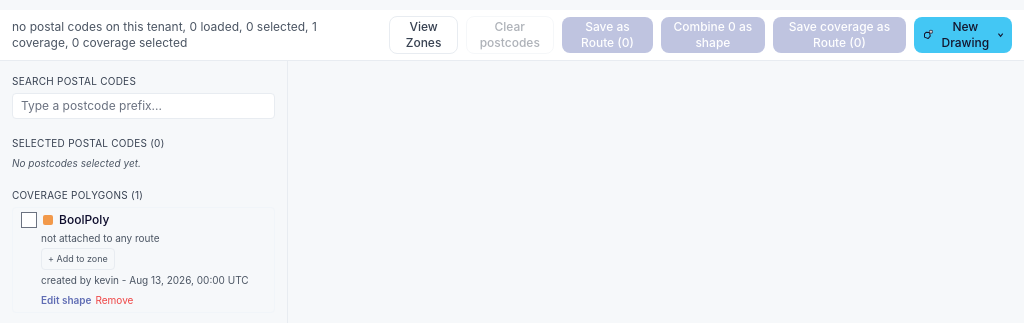
Test: PolygonBuilder - boolean ops (Add / Cut / Clip / Split) › Shape input picker switches to Rectangle + Cut uses rectangling mode
The width and height of the screenshot is (1024, 323).
(page scrolled)
Click the button "Edit shape" at (66, 300), box [41,292,92,308]
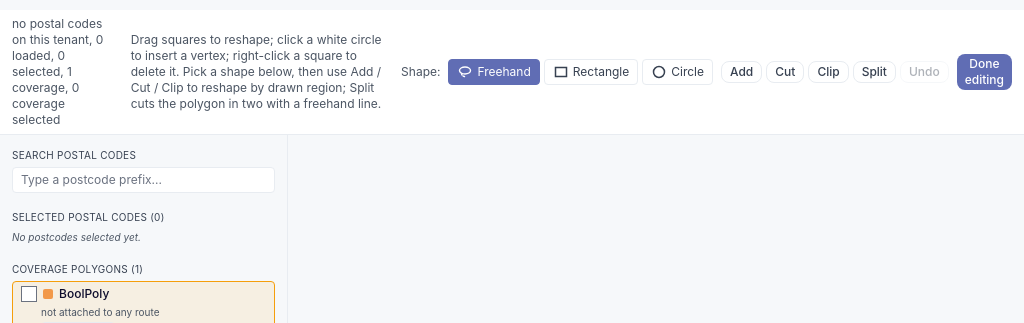
Expected: the text "Drag squares to reshape" is shown, [131,32,382,111]
Click the radio button labelled "Rectangle" at (591, 72), box [544,59,638,85]
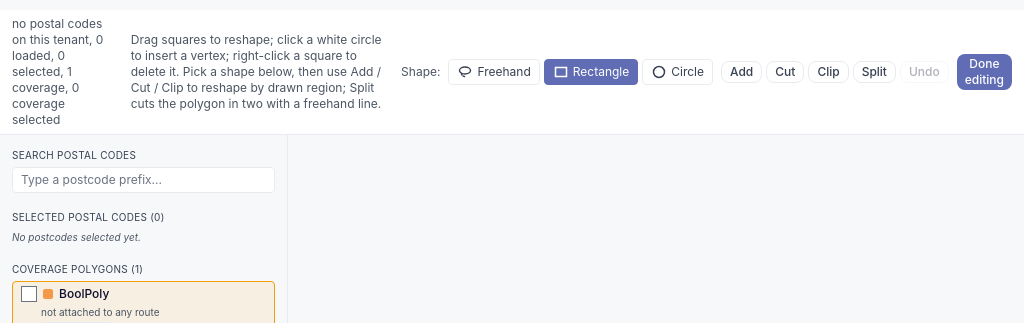
Now Cut should switch to rectangling.
Click the button "Cut" at (785, 72), box [766,61,804,83]
(page scrolled)
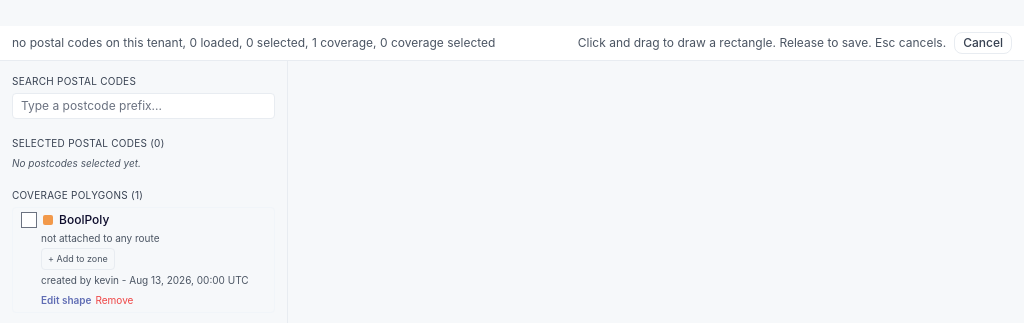
Expected: the text "Click and drag to draw a rectangle" is shown, [578,35,946,50]
